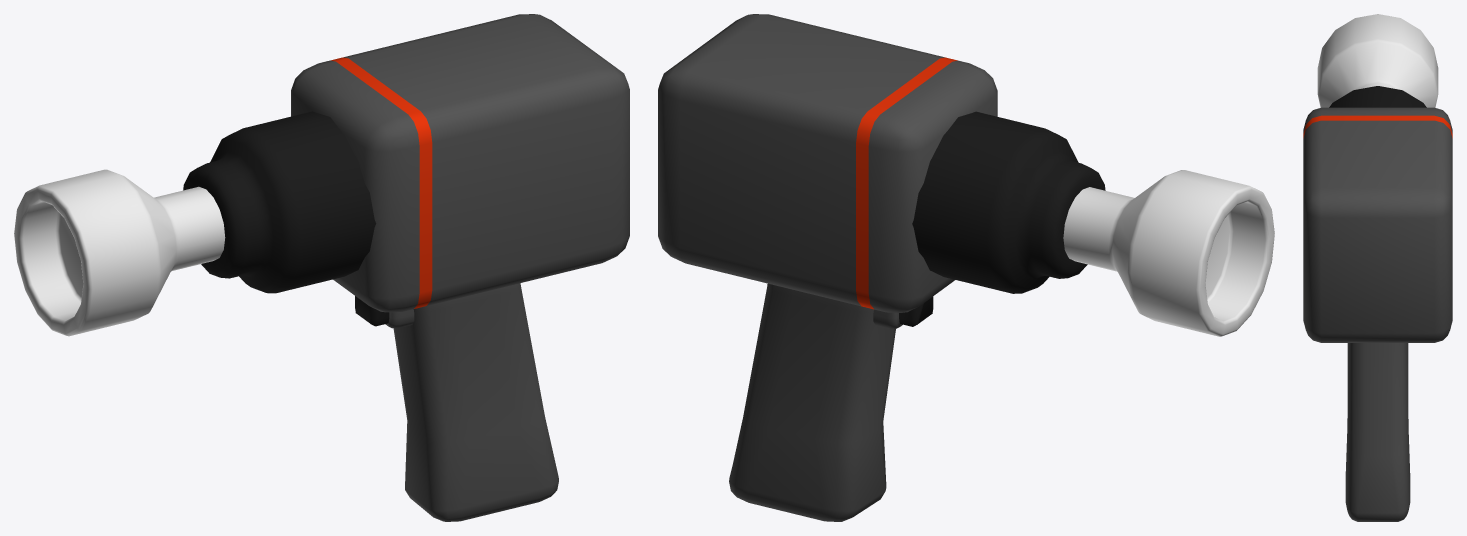
File: gun_wheel.fbx
3 renders of one model, left to right at view 1: azimuth 30°, elevation 25°; view 2: azimuth 150°, elevation 25°; view 3: azimuth 270°, elevation 25°, orthographic. The views are drawn at different scales.
Parts seen in each view (by area): view 1: Cube.008; view 2: Cube.008; view 3: Cube.008.
Part boxes in pixels (x1,y1,x2,y2): Cube.008: (14,14,629,521); Cube.008: (658,14,1274,521); Cube.008: (1303,14,1452,521).
Size of the model in its own units: 175 by 137 by 53.44.
